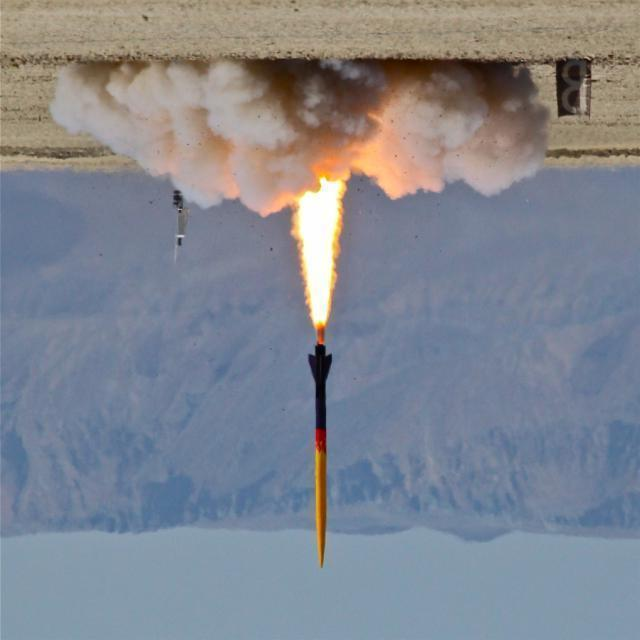missile: (300, 333, 341, 567)
